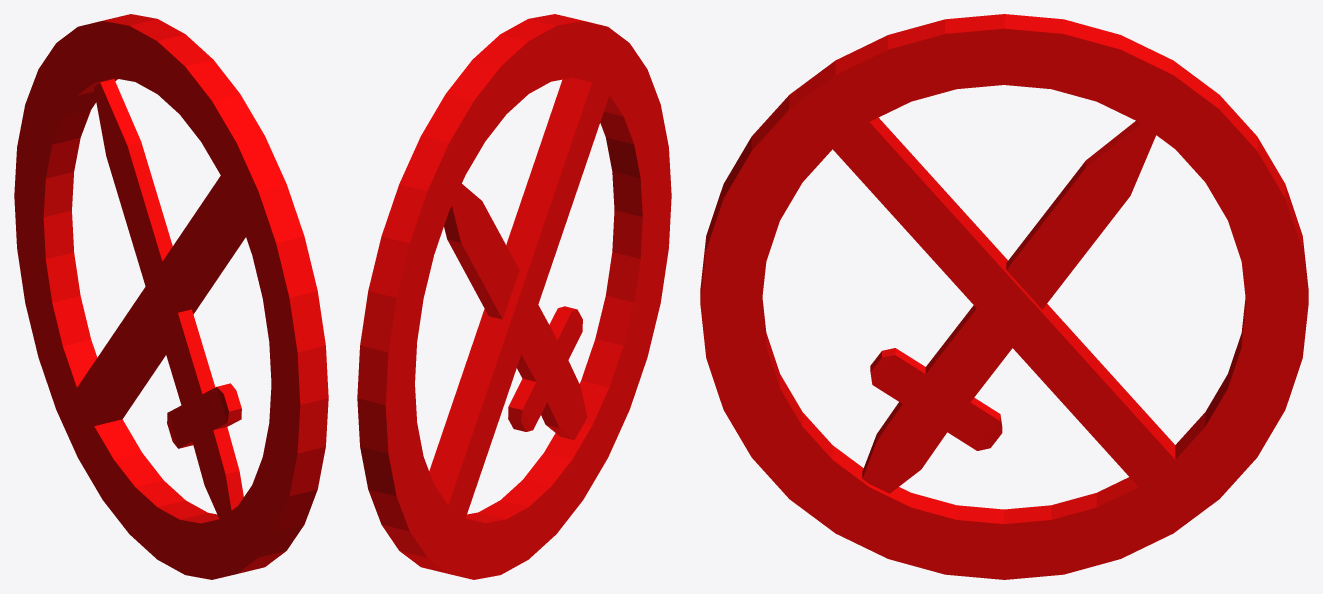
Rendered from Bloqueio de ataque.fbx.
The picture shows the model from 3 angles, left to right: view 1: azimuth 30°, elevation 25°; view 2: azimuth 150°, elevation 25°; view 3: azimuth 270°, elevation 25°; orthographic projection. The views are drawn at different scales.
Visible parts, largest first — view 1: Bloqueio de ataque; view 2: Bloqueio de ataque; view 3: Bloqueio de ataque.
Boxes of the visible parts, x1,y1,x2,y2 form: Bloqueio de ataque: (14, 14, 328, 579); Bloqueio de ataque: (357, 14, 671, 579); Bloqueio de ataque: (700, 14, 1308, 579).
Size of the model in its own units: 2 by 34.94 by 34.94.
